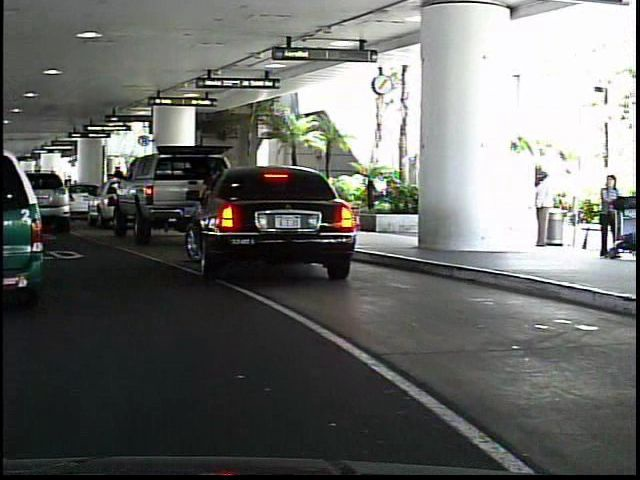person: (592, 169, 622, 264)
